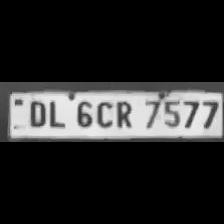5: (160, 97, 182, 129)
6: (70, 98, 93, 128)
7: (137, 98, 161, 130), (197, 98, 219, 130), (180, 98, 198, 130)
C: (92, 98, 114, 128)
D: (25, 98, 48, 128)
L: (46, 97, 68, 128)
R: (112, 98, 136, 130)
